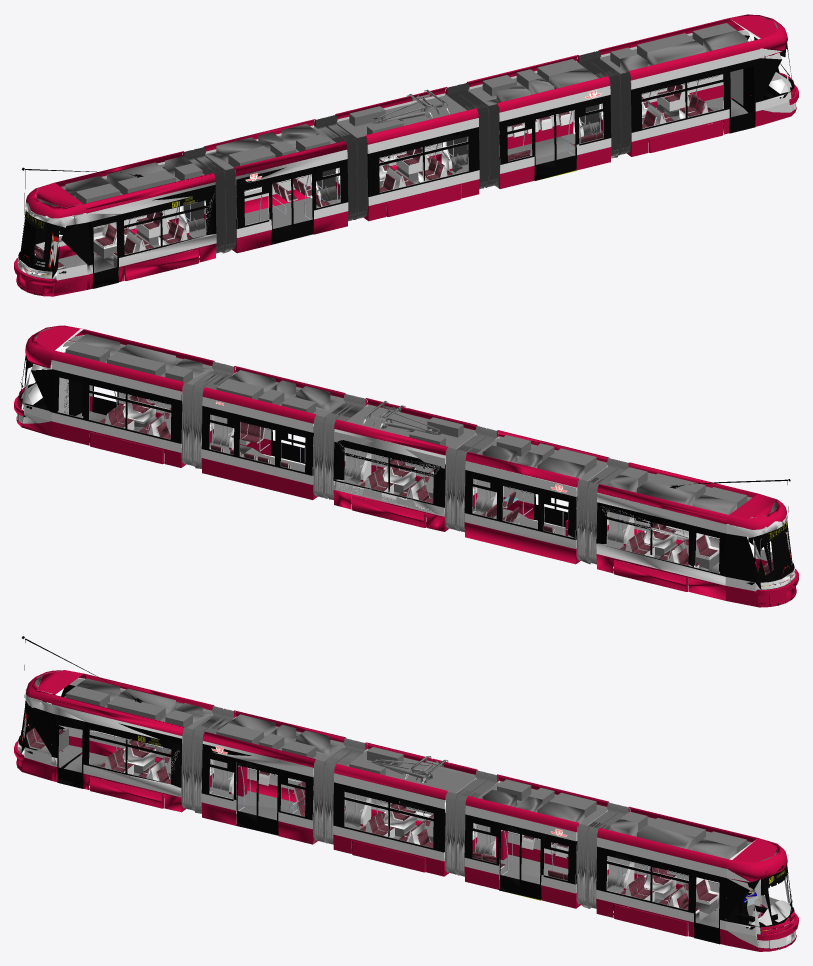
The model's file is ttc_flexity.glb.
3 views of the same model, one above another, from view 1: azimuth 30°, elevation 25°; view 2: azimuth 150°, elevation 25°; view 3: azimuth 330°, elevation 25° (orthographic).
Parts seen in each view (by area): view 1: Geom3D; view 2: Geom3D; view 3: Geom3D.
Boxes of the visible parts, x1,y1,x2,y2 form: Geom3D: (14, 14, 798, 296); Geom3D: (14, 325, 798, 607); Geom3D: (14, 636, 798, 951).
Bounding box in the file's own units: 31.79 × 4.91 × 2.62.
28 materials, 6 textured.
